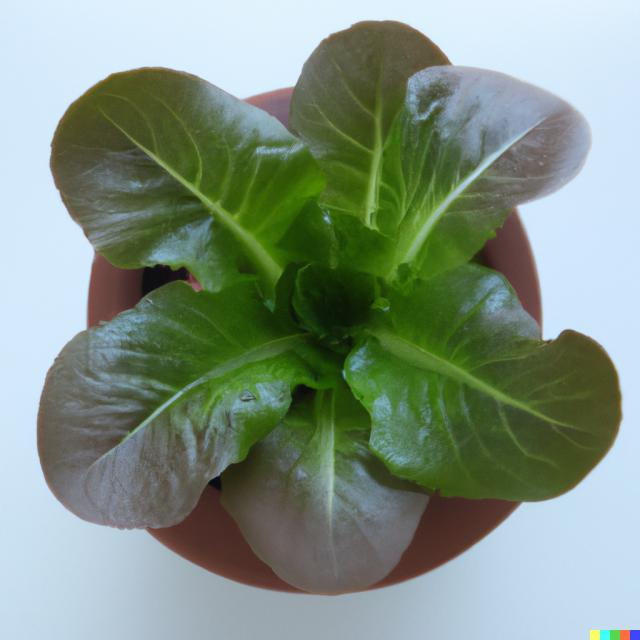-P: (22, 6, 640, 604)
